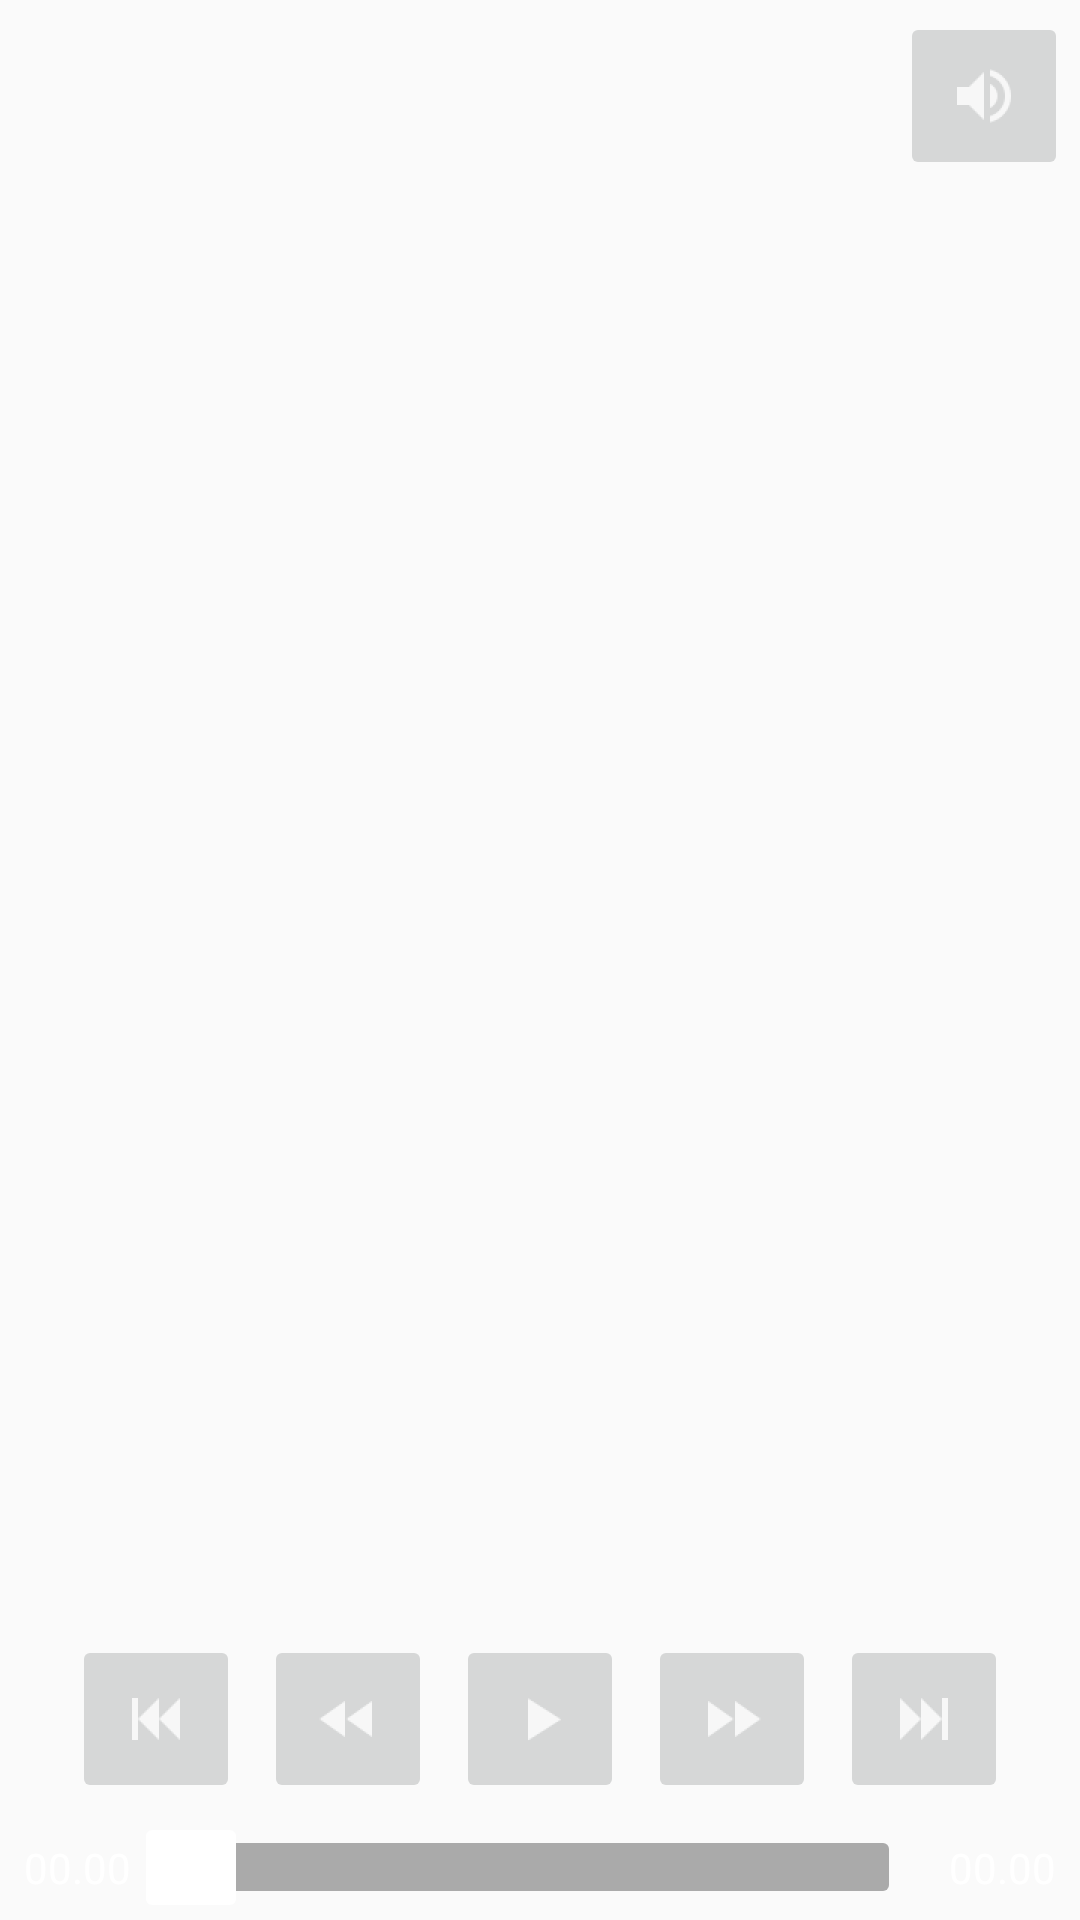

Icons on this 1080w x 1920h Android screen, each with its box as box(x1, y1, x2, y2):
player control fast forward: box(660, 1653, 804, 1785)
player control next: box(852, 1653, 996, 1785)
player control play: box(468, 1653, 612, 1785)
player control previous: box(84, 1653, 228, 1785)
player control rewind: box(276, 1653, 420, 1785)
Volume Control: box(912, 30, 1056, 162)
